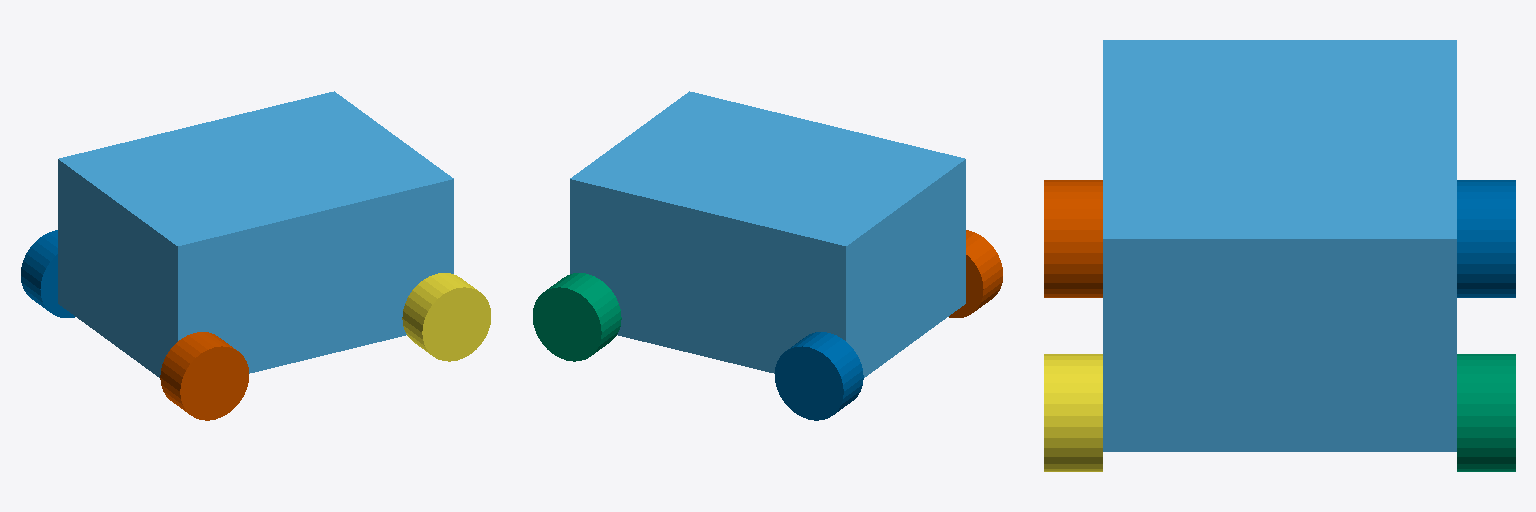
The robot description file, URDF, robot "robot":
<?xml version="1.0"?>
<robot name="robot">
 
  <link name="robot_footprint">
  </link> 

  <link name="base_link">
    <origin rpy="0 0 0" xyz="0 0 0"/>
    <visual>
      <geometry>
         <box size="0.4 0.3 0.2"/>
      </geometry>
      <origin rpy="0 0 0" xyz="0 0 0.125"/>
      <material name="white"/>
    </visual>
    <collision>
      <geometry>
         <box size="0.4 0.3 0.2"/>
      </geometry>
      <origin rpy="0 0 0" xyz="0 0 0.125"/>
    </collision>
    <inertial>
      <mass value="100"/>
      <inertia ixx="0.166667" ixy="0.0" ixz="0.0" iyy="0.166667" iyz="0.0" izz="0.166667"/>
      <origin rpy="0 0 0" xyz="0 0 0"/>
    </inertial>
  </link>
 
 <link name="front_left_wheel">
    <visual>
      <geometry>
      <cylinder length="0.05" radius="0.05"/>
      </geometry>
      <origin rpy="1.5707 0 0" xyz="0 0 0"/> 
    </visual>
    <collision>
      <geometry>
      <cylinder length="0.05" radius="0.05"/>
      </geometry>
      <origin rpy="1.5707 0 0" xyz="0 0 0"/> 
    </collision>
    <inertial>
      <mass value="5"/>
      <inertia ixx="0.14" ixy="0.0" ixz="0.0" iyy="0.14" iyz="0.0" izz="0.12"/>
      <origin rpy="1.5707 0 0" xyz="0 0 0"/> 
    </inertial>
 </link>

 <link name="front_right_wheel">
    <visual>
      <geometry>
      <cylinder length="0.05" radius="0.05"/>
      </geometry>
      <origin rpy="1.5707 0 0" xyz="0 0 0"/> 
    </visual>
    <collision>
      <geometry>
      <cylinder length="0.05" radius="0.05"/>
      </geometry>
      <origin rpy="1.5707 0 0" xyz="0 0 0"/> 
    </collision>
    <inertial>
      <mass value="5"/>
      <inertia ixx="0.14" ixy="0.0" ixz="0.0" iyy="0.14" iyz="0.0" izz="0.12"/>
      <origin rpy="1.5707 0 0" xyz="0 0 0"/> 
    </inertial>
 </link>
 
 <link name="back_left_wheel">
    <visual>
      <geometry>
      <cylinder length="0.05" radius="0.05"/>
      </geometry>
      <origin rpy="1.5707 0 0" xyz="0 0 0"/> 
    </visual>
    <collision>
      <geometry>
      <cylinder length="0.05" radius="0.05"/>
      </geometry>
      <origin rpy="1.5707 0 0" xyz="0 0 0"/> 
    </collision>
    <inertial>
      <mass value="5"/>
      <inertia ixx="0.14" ixy="0.0" ixz="0.0" iyy="0.14" iyz="0.0" izz="0.12"/>
      <origin rpy="1.5707 0 0" xyz="0 0 0"/> 
    </inertial>
 </link>

 <link name="back_right_wheel">
    <visual>
      <geometry>
      <cylinder length="0.05" radius="0.05"/>
      </geometry>
      <origin rpy="1.5707 0 0" xyz="0 0 0"/> 
    </visual>
    <collision>
      <geometry>
      <cylinder length="0.05" radius="0.05"/>
      </geometry>
      <origin rpy="1.5707 0 0" xyz="0 0 0"/> 
    </collision>
    <inertial>
      <mass value="5"/>
      <inertia ixx="0.14" ixy="0.0" ixz="0.0" iyy="0.14" iyz="0.0" izz="0.12"/>
      <origin rpy="1.5707 0 0" xyz="0 0 0"/> 
    </inertial>
 </link>

 <joint name="robot_footprint_joint" type="fixed">
    <parent link="robot_footprint"/>
    <child link="base_link"/>
    <origin xyz="0 0 0" rpy="0 0 0" />
 </joint>

 <joint name="front_left_wheel_joint" type="continuous">
    <parent link="base_link"/>
    <child link="front_left_wheel"/>
    <origin rpy="0 0 0" xyz="0.175 0.175 0.05"/>
    <axis rpy="0 0 0" xyz="0 1 0"/>
    <dynamics damping="1.0" friction="1.0"/>
    <limit effort="10000" velocity="1000"/>
 </joint>
  
 <joint name="front_right_wheel_joint" type="continuous">
    <parent link="base_link"/>
    <child link="front_right_wheel"/>
    <origin rpy="0 0 0" xyz="0.175 -0.175 0.05"/>
    <axis rpy="0 0 0" xyz="0 1 0"/>
    <dynamics damping="1.0" friction="1.0"/>
    <limit effort="10000" velocity="1000"/>
 </joint>

 <joint name="back_left_wheel_joint" type="continuous">
    <parent link="base_link"/>
    <child link="back_left_wheel"/>
    <origin rpy="0 0 0" xyz="-0.175 0.175 0.05"/>
    <axis rpy="0 0 0" xyz="0 1 0"/>
    <dynamics damping="1.0" friction="1.0"/>
    <limit effort="10000" velocity="1000"/>
 </joint>

 <joint name="back_right_wheel_joint" type="continuous">
    <parent link="base_link"/>
    <child link="back_right_wheel"/>
    <origin rpy="0 0 0" xyz="-0.175 -0.175 0.05"/>
    <axis rpy="0 0 0" xyz="0 1 0"/>
    <dynamics damping="1.0" friction="1.0"/>
    <limit effort="10000" velocity="1000"/>
 </joint>

 <!-- Teleop Controller -->
  
  <!-- <gazebo>
   <plugin name="skid_steer_drive_controller" filename="libgazebo_ros_skid_steer_drive.so">
    <updateRate>100.0</updateRate>
    <robotNamespace>/</robotNamespace>
    <leftFrontJoint>front_left_wheel_joint</leftFrontJoint>
    <rightFrontJoint>front_right_wheel_joint</rightFrontJoint>
    <leftRearJoint>back_left_wheel_joint</leftRearJoint>
    <rightRearJoint>back_right_wheel_joint</rightRearJoint>
    <wheelSeparation>0.5</wheelSeparation>
    <wheelDiameter>0.1</wheelDiameter>
    <robotBaseFrame>parent_link</robotBaseFrame>
    <torque>5</torque>
    <topicName>cmd_vel</topicName>
    <broadcastTF>false</broadcastTF>
   </plugin>
  </gazebo> -->

  <gazebo>
   <plugin name="omni_steer_drive_controller" filename="libgazebo_ros_planar_move.so">
      <commandTopic>cmd_vel</commandTopic>
      <odometryTopic>odom</odometryTopic>
      <odometryFrame>odom</odometryFrame>
      <odometryRate>20.0</odometryRate>
      <robotBaseFrame>robot_footprint</robotBaseFrame>
    </plugin>
  </gazebo>

 <!-- Camera Link -->
  <link name="camera_link">
    <collision>
      <origin xyz="0 0 0" rpy="0 0 0"/>
      <geometry>
       <mesh filename="package://uvd_description/meshes/camera_link.stl"/>
      </geometry>
    </collision>
    <visual>
      <origin xyz="0 0 0" rpy="0 0 0"/>
      <geometry>
       <mesh filename="package://uvd_description/meshes/camera_link.stl"/>
      </geometry>
    </visual>
    <inertial>
      <mass value="1e-5" />
      <origin xyz="0 0 0" rpy="0 0 0"/>
      <inertia ixx="1e-6" ixy="0" ixz="0" iyy="1e-6" iyz="0" izz="1e-6" />
    </inertial>
  </link>
   
  <joint name="camera_joint" type="fixed">
    <parent link="base_link"/>
    <child link="camera_link"/>
    <axis xyz="0 0 0" />
    <origin xyz="0.04 0 1.457" rpy="0 0 0"/>
  </joint>
  
  <!-- Camera Plugin-->
  <gazebo reference="camera_link">
    <sensor type="camera" name="camera1">
      <update_rate>30.0</update_rate>
      <camera name="head">
        <horizontal_fov>1.3962634</horizontal_fov>
        <image>
          <width>800</width>
          <height>800</height>
          <format>R8G8B8</format>
        </image>
        <clip>
          <near>0.02</near>
          <far>300</far>
        </clip>
        <noise>
          <type>gaussian</type>
          <!-- Noise is sampled independently per pixel on each frame.
               That pixel's noise value is added to each of its color
               channels, which at that point lie in the range [0,1]. -->
          <mean>0.0</mean>
          <stddev>0.007</stddev>
        </noise>
      </camera>
      <plugin name="camera_controller" filename="libgazebo_ros_camera.so">
        <alwaysOn>true</alwaysOn>
        <updateRate>0.0</updateRate>
        <cameraName>rrbot/camera1</cameraName>
        <imageTopicName>image_raw</imageTopicName>
        <cameraInfoTopicName>camera_info</cameraInfoTopicName>
        <frameName>camera_link</frameName>
        <hackBaseline>0.07</hackBaseline>
        <distortionK1>0.0</distortionK1>
        <distortionK2>0.0</distortionK2>
        <distortionK3>0.0</distortionK3>
        <distortionT1>0.0</distortionT1>
        <distortionT2>0.0</distortionT2>
      </plugin>
    </sensor>
  </gazebo>
  
 <!-- Depth Camera Intel RealSense D435i -->
  <link name="realsense_link">
    <collision>
      <origin xyz="0 0 0" rpy="0 0 0"/>
      <geometry>
       <mesh filename="package://uvd_description/meshes/realsense_link.stl"/>
      </geometry>
    </collision>
    <visual>
      <origin xyz="0 0 0" rpy="0 0 0"/>
      <geometry>
       <mesh filename="package://uvd_description/meshes/realsense_link.stl"/>
      </geometry>
    </visual>
    <inertial>
      <mass value="1e-5" />
      <origin xyz="0 0 0" rpy="0 0 0"/>
      <inertia ixx="1e-6" ixy="0" ixz="0" iyy="1e-6" iyz="0" izz="1e-6" />
    </inertial>
  </link>
   
  <joint name="realsense_joint" type="fixed">
    <parent link="base_link"/>
    <child link="realsense_link"/>
    <axis xyz="0 0 0" />
    <origin xyz="0.14 0 0.675" rpy="0 0 0"/>
  </joint>
  <joint name="realsense_optical_joint" type="fixed">
    <origin xyz="0 0 0" rpy="-1.5707 0 -1.5707"/>
    <parent link="realsense_link"/>
    <child link="realsense_optical_link"/>
  </joint>
  <link name="realsense_optical_link"/>
  
  <gazebo reference="realsense_link">
   <sensor name="realsense" type="depth">
    <update_rate>20</update_rate>
    <camera>
     <!-- <pose>0 0 0 0 1.5707 0</pose> -->
      <horizontal_fov>1.047198</horizontal_fov>
      <image>
        <width>640</width>
        <height>480</height>
        <format>R8G8B8</format>
      </image>
      <clip>
        <near>0.05</near>
        <far>3</far>
      </clip>
    </camera>
    <plugin name="realsense_controller" filename="libgazebo_ros_openni_kinect.so">
      <baseline>0.2</baseline>
      <alwaysOn>true</alwaysOn>
      <updateRate>1.0</updateRate>
      <cameraName>realsense_ir</cameraName>
      <imageTopicName>/realsense/color/image_raw</imageTopicName>
      <cameraInfoTopicName>/realsense/color/camera_info</cameraInfoTopicName>
      <depthImageTopicName>/realsense/depth/image_raw</depthImageTopicName>
      <depthImageInfoTopicName>/realsense/depth/camera_info</depthImageInfoTopicName>
      <pointCloudTopicName>/realsense/depth/points</pointCloudTopicName>
      <frameName>realsense_optical_link</frameName>
      <pointCloudCutoff>0.5</pointCloudCutoff>
      <pointCloudCutoffMax>3.0</pointCloudCutoffMax>
      <distortionK1>0.00000001</distortionK1>
      <distortionK2>0.00000001</distortionK2>
      <distortionK3>0.00000001</distortionK3>
      <distortionT1>0.00000001</distortionT1>
      <distortionT2>0.00000001</distortionT2>
      <CxPrime>0</CxPrime>
      <Cx>0</Cx>
      <Cy>0</Cy>
      <focalLength>0</focalLength>
      <hackBaseline>0</hackBaseline>
    </plugin>
   </sensor>
  </gazebo>

 <!-- IMU link -->
  <link name="imu_link">
    <origin xyz="0 0 0" rpy=" 0 -0 0"/>
    <visual>
      <geometry>
       <box size="0.05 0.05 0.02"/>
      </geometry>
      <origin rpy="0 0 0" xyz="0 0 0"/> 
    </visual>
    <collision>
      <geometry>
       <box size="0.05 0.05 0.05"/>
      </geometry>
      <origin rpy="0 0 0" xyz="0 0 0"/>  
    </collision>
    <inertial>
      <mass value="10"/>
      <inertia ixx="0.166667" ixy="0.0" ixz="0.0" iyy="0.166667" iyz="0.0" izz="0.166667"/>
      <origin rpy="0 0 0" xyz="0 0 0.05"/>
    </inertial>
  </link>

  <joint name="imu_joint" type="fixed">
    <parent link="base_link"/>
    <child link="imu_link"/>
    <axis xyz="0 0 0" />
    <origin xyz="0 0 0.2" rpy="0 0 0"/>
  </joint>
  <!-- IMU Plugin -->
  <gazebo reference="imu_link">
    <gravity>true</gravity>
    <sensor name="imu_sensor" type="imu">
      <always_on>true</always_on>
      <update_rate>100</update_rate>
      <visualize>true</visualize>
      <topic>__default_topic__</topic>
      <plugin filename="libgazebo_ros_imu_sensor.so" name="imu_plugin">
        <topicName>imu</topicName>
        <bodyName>imu_link</bodyName>
        <updateRateHZ>10.0</updateRateHZ>
        <gaussianNoise>0.0</gaussianNoise>
        <xyzOffset>0 0 0</xyzOffset>
        <rpyOffset>0 0 0</rpyOffset>
        <frameName>imu_link</frameName>
        <initialOrientationAsReference>false</initialOrientationAsReference>
      </plugin>
      <pose>0 0 0 0 0 0</pose>
    </sensor>
  </gazebo>
  
  <gazebo reference="base_link">
   <material>Gazebo/Blue</material>
  </gazebo>
 <gazebo reference="robot_footprint">
  <gravity>true</gravity>
 </gazebo>
 
</robot>

--- Render facts (derived) ---
3 views of the same robot in one strip: view 1: azimuth 30°, elevation 25°; view 2: azimuth 150°, elevation 25°; view 3: azimuth 270°, elevation 25° (orthographic).
Robot: robot — 10 links, 9 joints (4 continuous, 5 fixed); root link robot_footprint; default pose: every joint at zero.
Visible links, largest first — view 1: base_link, back_right_wheel, front_right_wheel, back_left_wheel; view 2: base_link, back_left_wheel, front_left_wheel, back_right_wheel; view 3: base_link, front_left_wheel, front_right_wheel, back_left_wheel, back_right_wheel.
Link boxes in pixels (x1,y1,x2,y2): base_link: (58, 91, 453, 377); back_right_wheel: (160, 332, 248, 420); front_right_wheel: (402, 273, 490, 361); back_left_wheel: (21, 230, 74, 317); base_link: (570, 91, 965, 377); back_left_wheel: (775, 332, 863, 420); front_left_wheel: (533, 273, 621, 361); back_right_wheel: (949, 230, 1002, 317); base_link: (1103, 40, 1456, 451); front_left_wheel: (1457, 354, 1515, 471); front_right_wheel: (1044, 354, 1102, 471); back_left_wheel: (1457, 180, 1515, 297); back_right_wheel: (1044, 180, 1102, 297).
Bounding box of the posed robot: 0.45 × 0.4 × 0.225 m (x, y, z).
0 mesh visuals loaded from 2 distinct referenced files (none loaded); not drawn: 2 (reference not matched to a file when rendering).